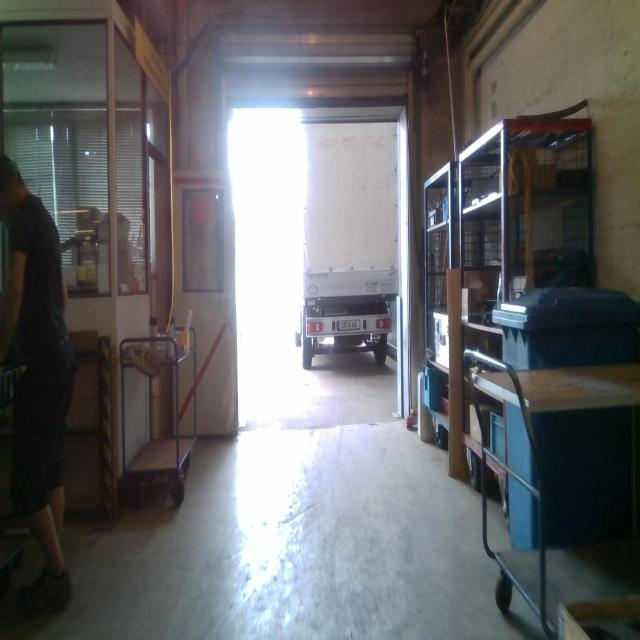small_load_carrier: (424, 363, 442, 411)
